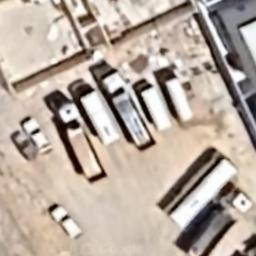SUV: (45, 198, 85, 242)
sedan: (20, 116, 54, 156), (10, 130, 36, 162)
truck: (160, 148, 240, 229), (176, 184, 252, 256), (50, 102, 110, 186), (97, 68, 156, 152), (70, 82, 122, 146), (151, 66, 195, 124), (128, 76, 172, 131)
